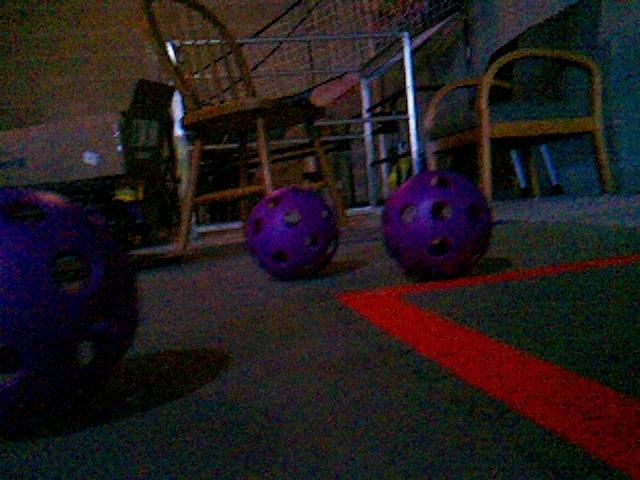Purple: (0, 188, 142, 434), (381, 170, 491, 276), (244, 189, 341, 283)
